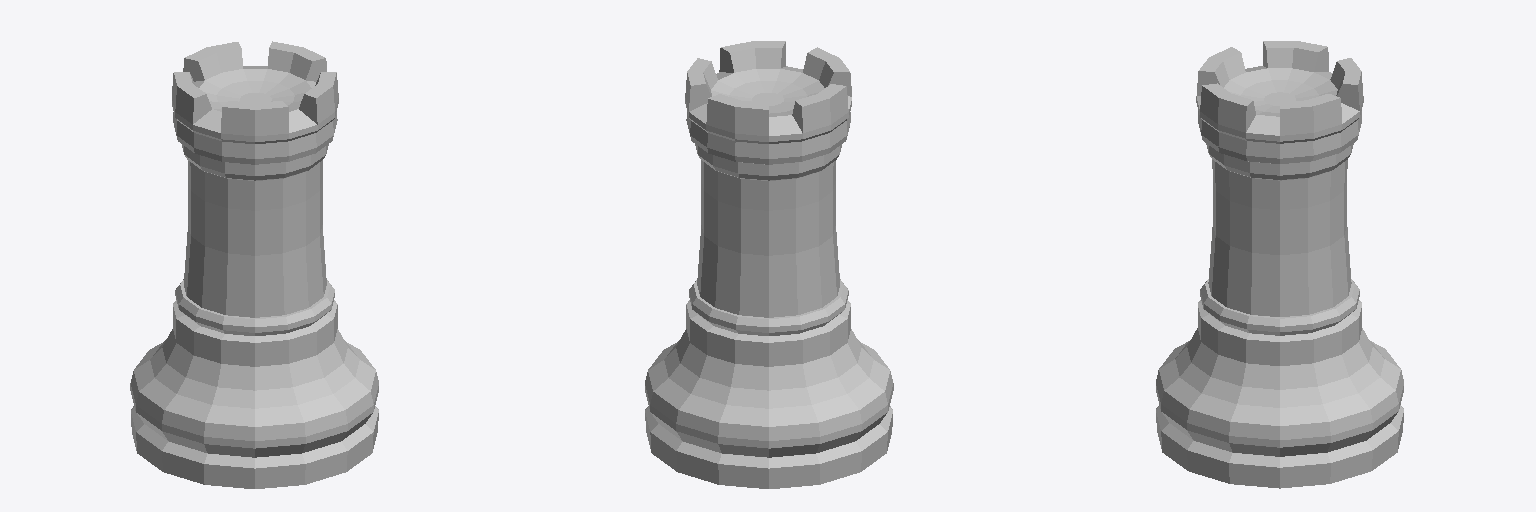
Rendered from rook.obj.
3 renders of one model, left to right at view 1: azimuth 30°, elevation 25°; view 2: azimuth 150°, elevation 25°; view 3: azimuth 270°, elevation 25°, orthographic.
Parts seen in each view (by area): view 1: pieces.001; view 2: pieces.001; view 3: pieces.001.
Part boxes in pixels (left/top/right/bottom): pieces.001: left=130, top=41, right=378, bottom=488; pieces.001: left=645, top=41, right=893, bottom=488; pieces.001: left=1156, top=41, right=1403, bottom=488.
Bounding box in the file's own units: 0.9856 × 1.59 × 0.9911.